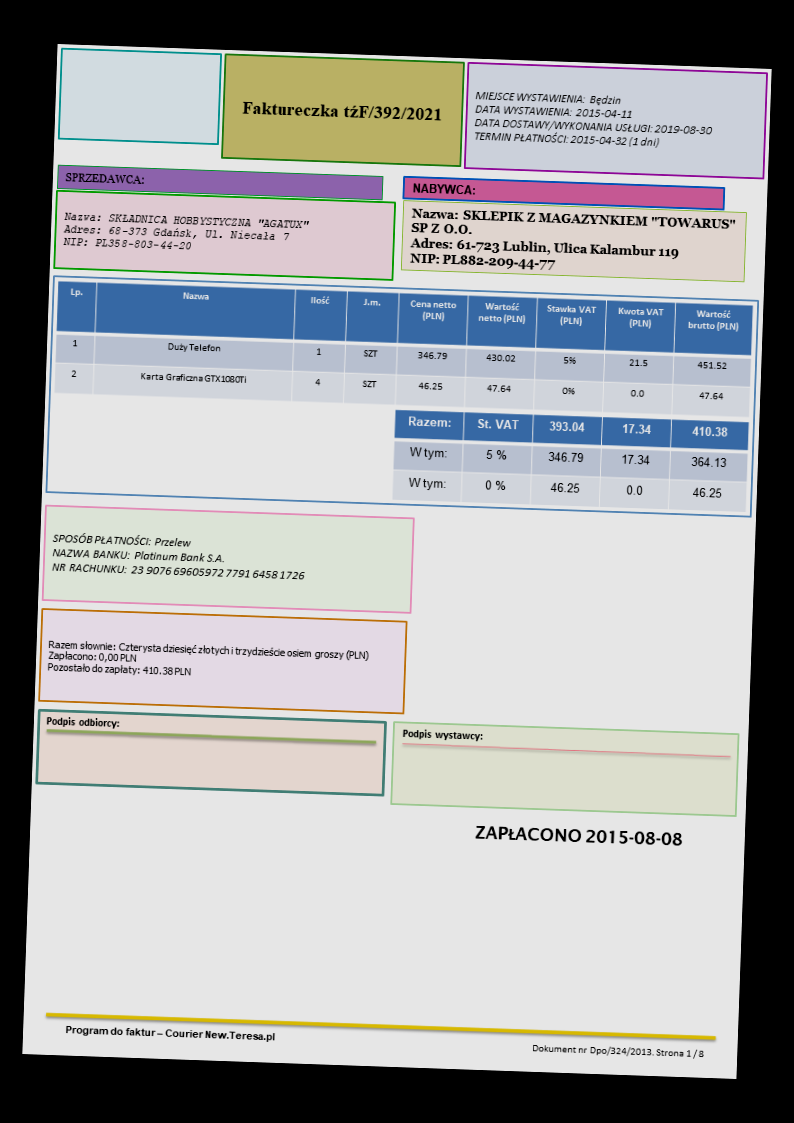Table: (53, 279, 754, 418), (391, 408, 750, 513)
TextBox: (407, 206, 738, 277), (472, 89, 715, 152), (46, 637, 371, 684), (49, 530, 308, 582), (61, 208, 310, 256), (241, 98, 443, 123), (474, 823, 683, 847), (62, 1022, 277, 1045), (530, 1040, 706, 1062), (63, 169, 148, 188), (400, 726, 484, 744), (44, 714, 121, 731), (411, 180, 477, 197)
